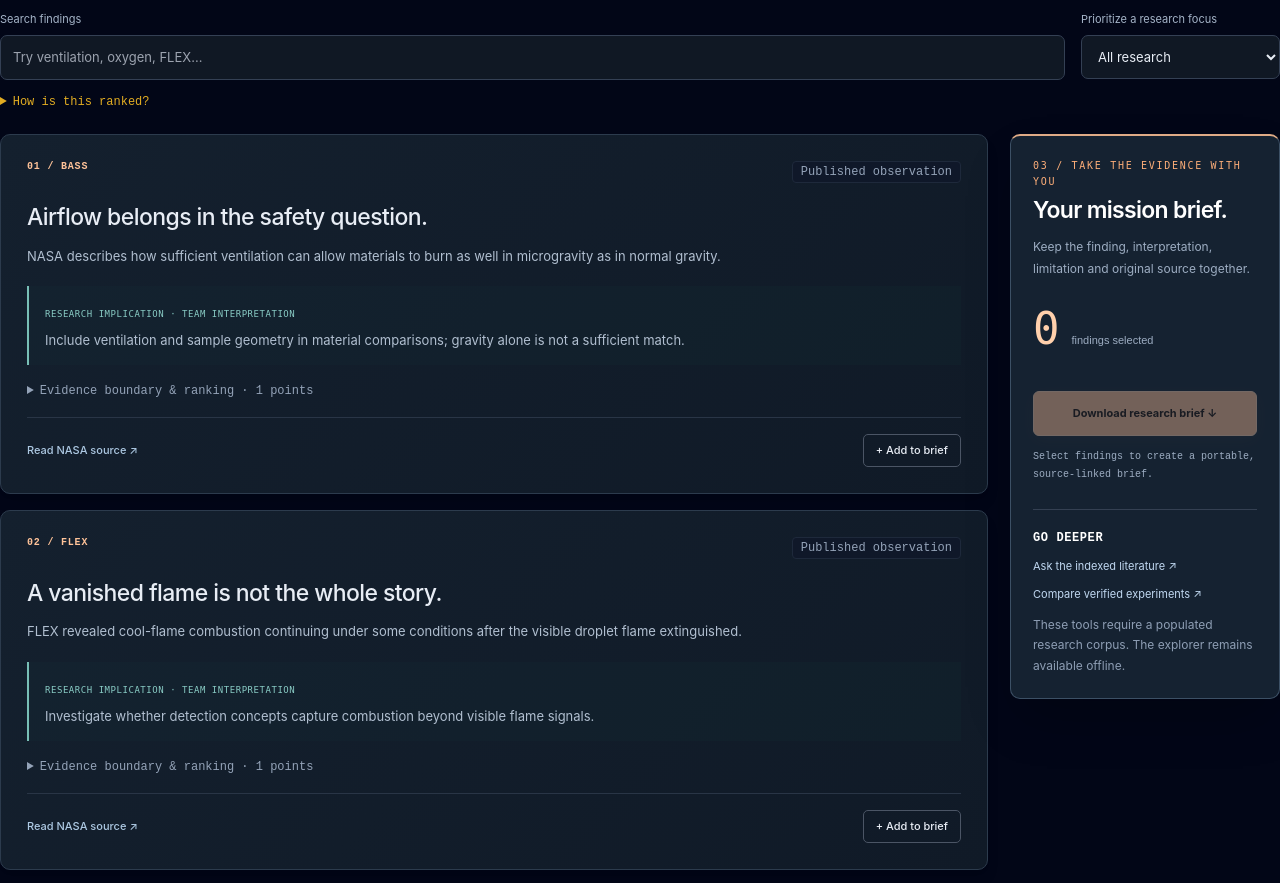
Test: mission evidence explorer › supports mission selection, evidence selection and an honest empty state
(page scrolled)
Expected: the button "Download research brief ↓" is disabled, [1033, 391, 1257, 436]
Click the 1st button "+ Add to brief": x=912, y=451 [863, 434, 961, 467]
(page scrolled)
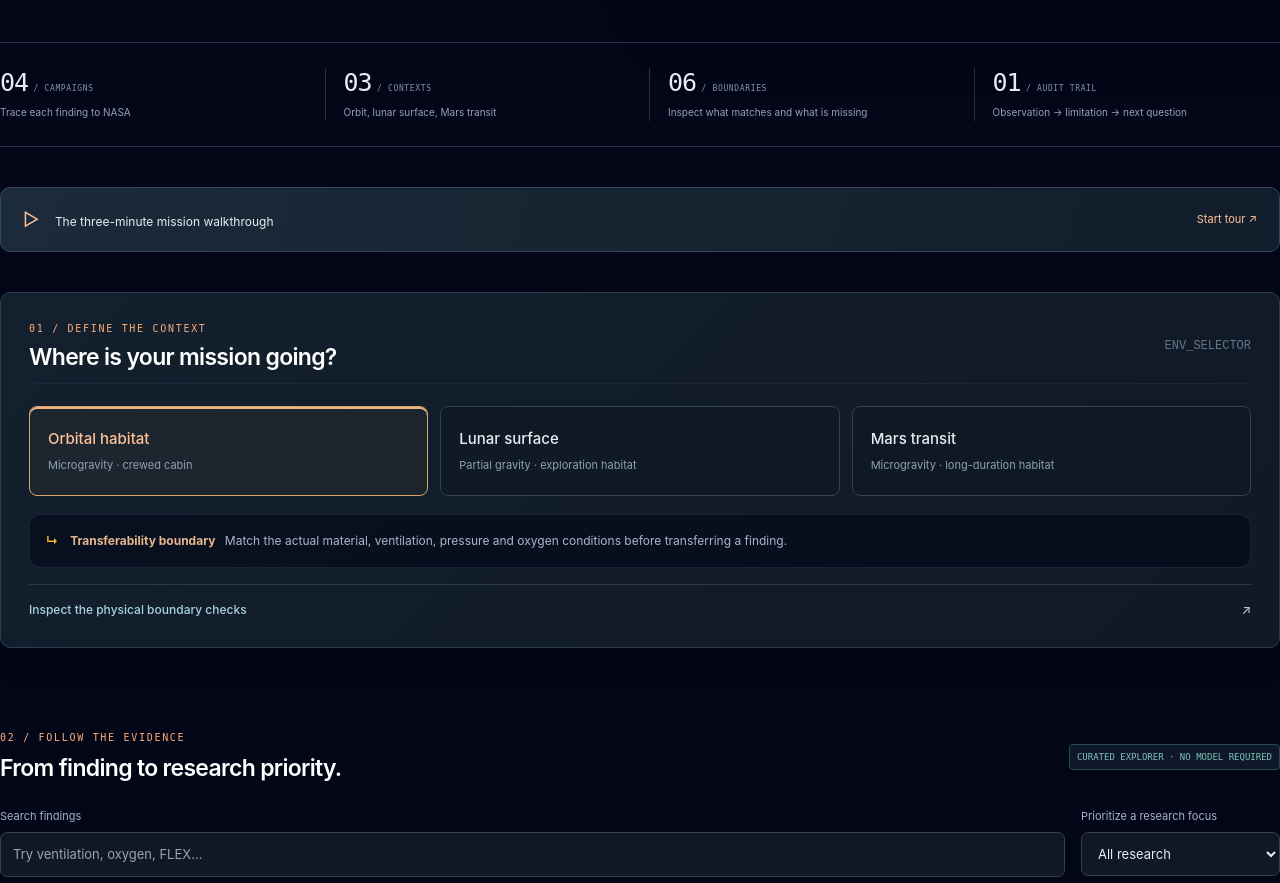
Click the button "Lunar surface Partial gravity · exploration habitat": x=509, y=438 [440, 406, 840, 496]
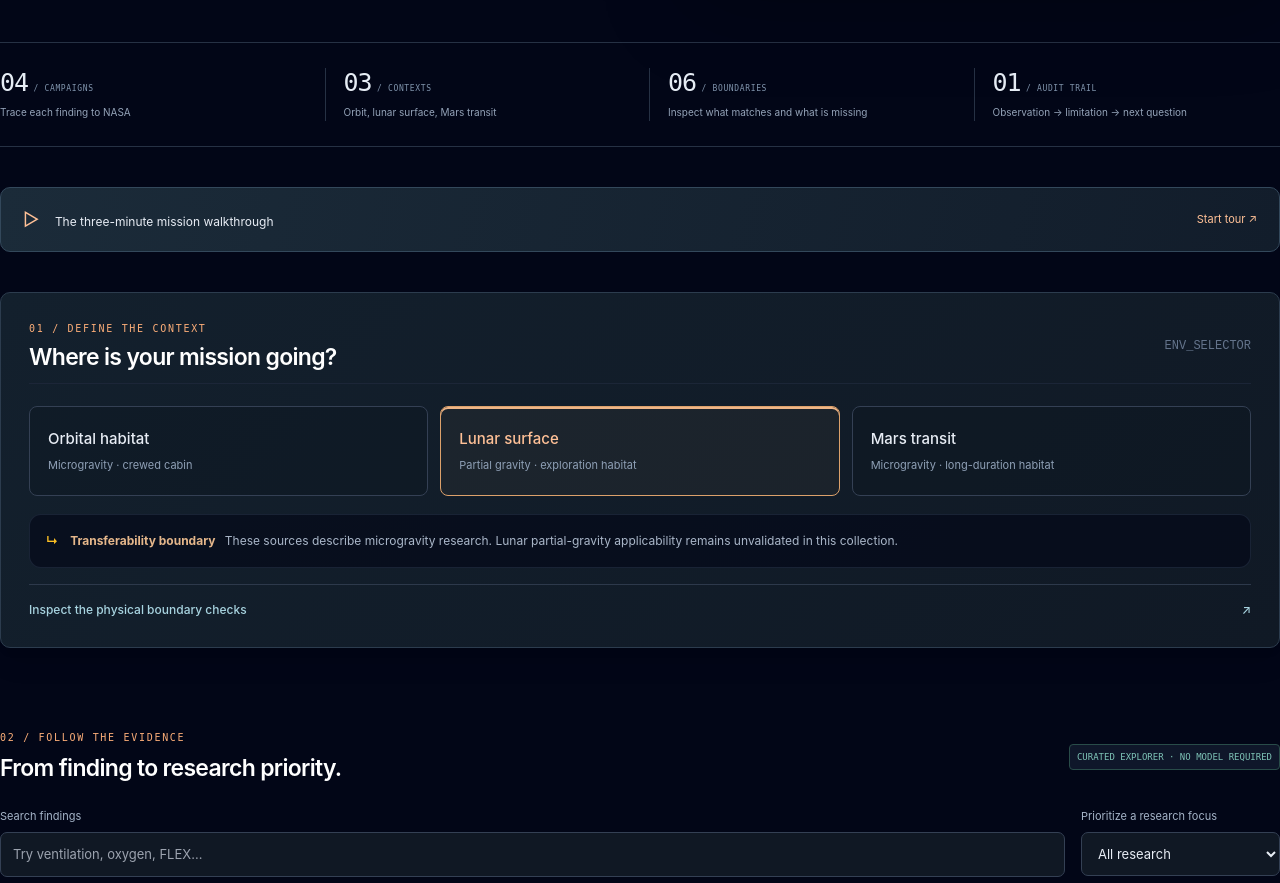
Result: the text "Lunar partial-gravity applicability remains unvalidated" is shown at [225, 533, 898, 548]
In the search field: x=532, y=854 [0, 832, 1065, 877], type "regolith"
(page scrolled)
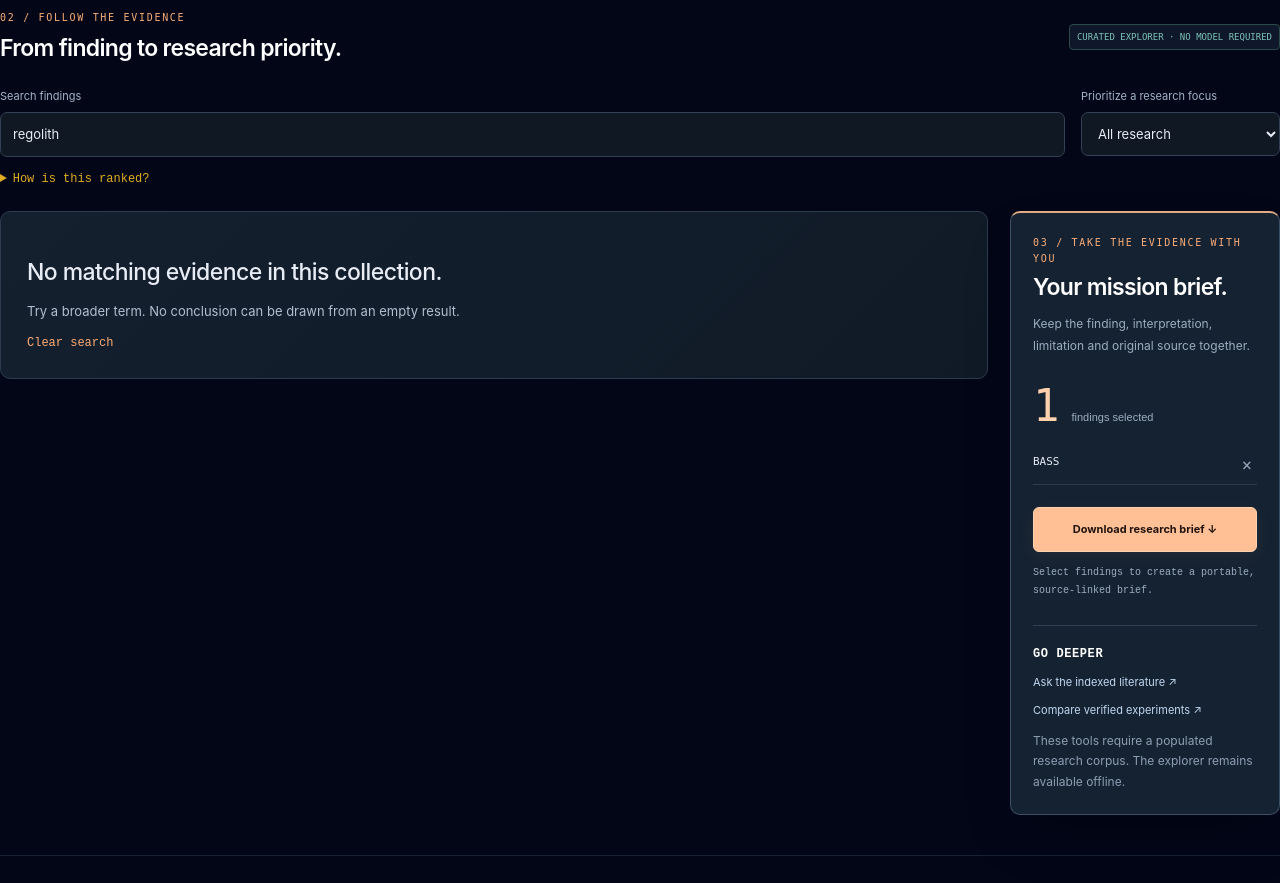
Result: the button "Download research brief ↓" is enabled at [1033, 507, 1257, 552]
Result: the heading "No matching evidence in this collection." is shown at [27, 258, 442, 286]
Click the button "×": x=1247, y=465 [1237, 455, 1257, 475]
(page scrolled)
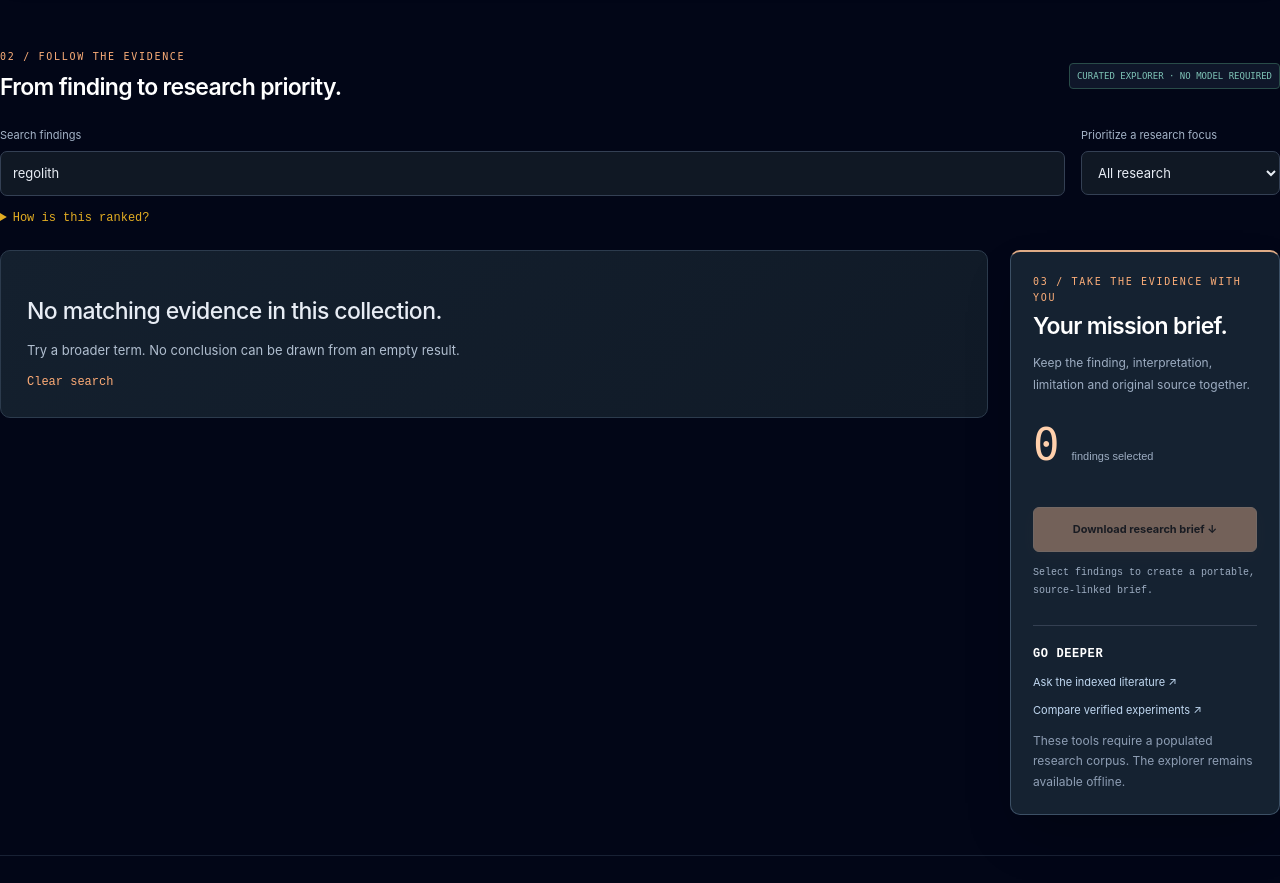
Result: the button "Download research brief ↓" is disabled at [1033, 507, 1257, 552]
